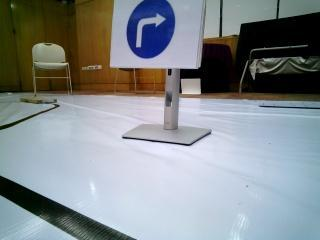right: (114, 1, 197, 68)
